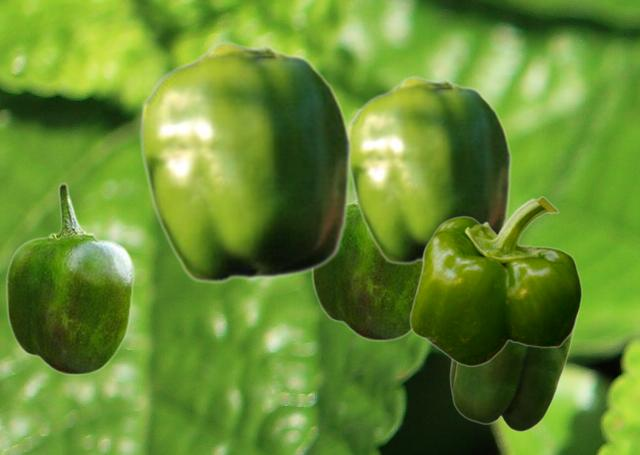bell_pepper: (139, 40, 351, 283), (348, 75, 511, 264), (409, 196, 581, 366), (5, 182, 134, 375), (311, 199, 421, 341), (449, 316, 578, 431)
